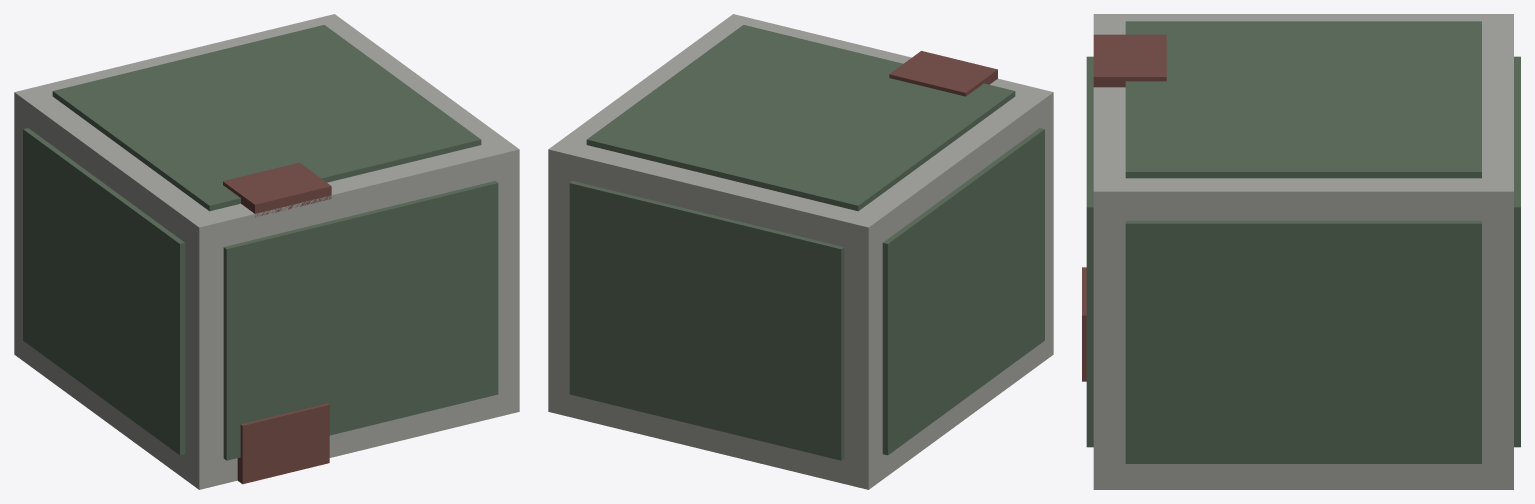
The model's file is oc_large_crate.obj.
The picture shows the model from 3 angles, left to right: view 1: azimuth 30°, elevation 25°; view 2: azimuth 150°, elevation 25°; view 3: azimuth 270°, elevation 25°; orthographic projection. The views are drawn at different scales.
Visible parts, largest first — view 1: oc_large_crate_2, oc_large_crate_0, oc_large_crate_1, oc_large_crate_4, oc_large_crate_7, oc_large_crate_6; view 2: oc_large_crate_3, oc_large_crate_0, oc_large_crate_1, oc_large_crate_4, oc_large_crate_6; view 3: oc_large_crate_5, oc_large_crate_0, oc_large_crate_1, oc_large_crate_6, oc_large_crate_2, oc_large_crate_3, oc_large_crate_7.
Part boxes in pixels (bbox=[...]): oc_large_crate_2: bbox=[223, 181, 498, 460]; oc_large_crate_0: bbox=[14, 14, 519, 489]; oc_large_crate_1: bbox=[52, 25, 481, 211]; oc_large_crate_4: bbox=[23, 128, 185, 455]; oc_large_crate_7: bbox=[237, 403, 329, 484]; oc_large_crate_6: bbox=[223, 162, 331, 217]; oc_large_crate_3: bbox=[569, 181, 844, 460]; oc_large_crate_0: bbox=[548, 14, 1053, 489]; oc_large_crate_1: bbox=[586, 25, 1015, 211]; oc_large_crate_4: bbox=[882, 128, 1044, 455]; oc_large_crate_6: bbox=[889, 51, 997, 96]; oc_large_crate_5: bbox=[1125, 220, 1481, 463]; oc_large_crate_0: bbox=[1093, 14, 1513, 489]; oc_large_crate_1: bbox=[1125, 21, 1481, 178]; oc_large_crate_6: bbox=[1093, 34, 1166, 87]; oc_large_crate_2: bbox=[1086, 56, 1093, 447]; oc_large_crate_3: bbox=[1514, 56, 1520, 447]; oc_large_crate_7: bbox=[1082, 267, 1086, 381].
Bounding box in the file's own units: 0.95 × 0.745 × 0.96.
